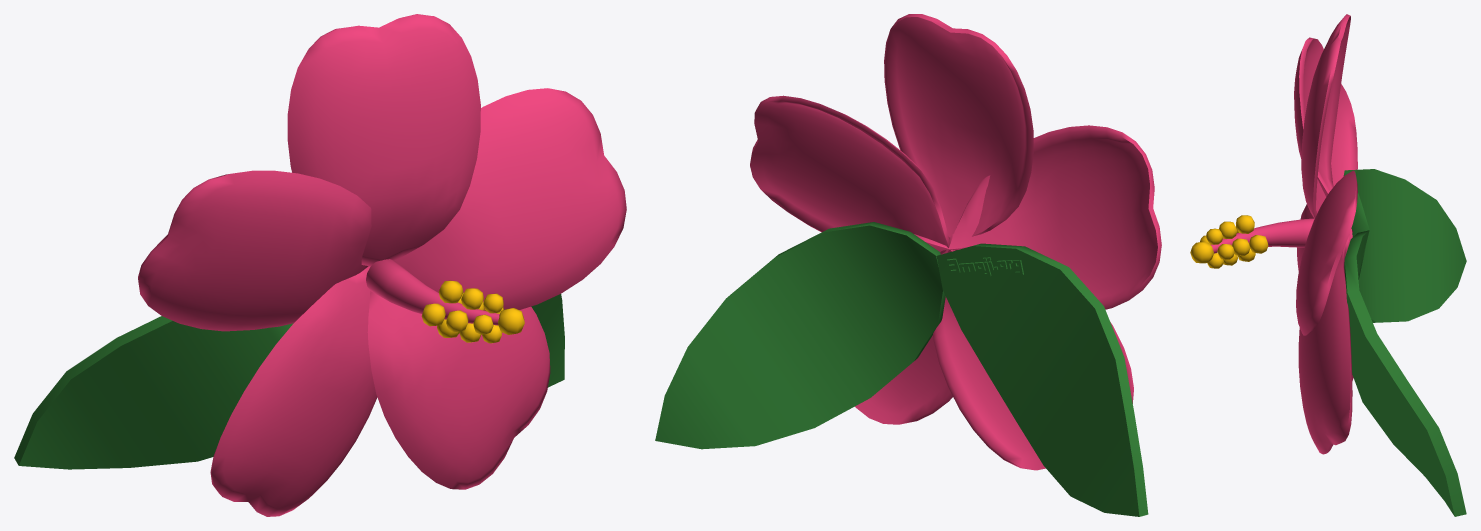
The model's file is hibiscus.fbx.
3 views of the same model, side by side, from view 1: azimuth 30°, elevation 25°; view 2: azimuth 150°, elevation 25°; view 3: azimuth 270°, elevation 25° (orthographic). The views are drawn at different scales.
Parts seen in each view (by area): view 1: Circle.2041; view 2: Circle.2041; view 3: Circle.2041.
Boxes of the visible parts, x1,y1,x2,y2 form: Circle.2041: (14,14,626,516); Circle.2041: (655,14,1161,516); Circle.2041: (1190,14,1466,516).
Size of the model in its own units: 262 by 218 by 141.
Materials: 1 (1 with a texture image).
